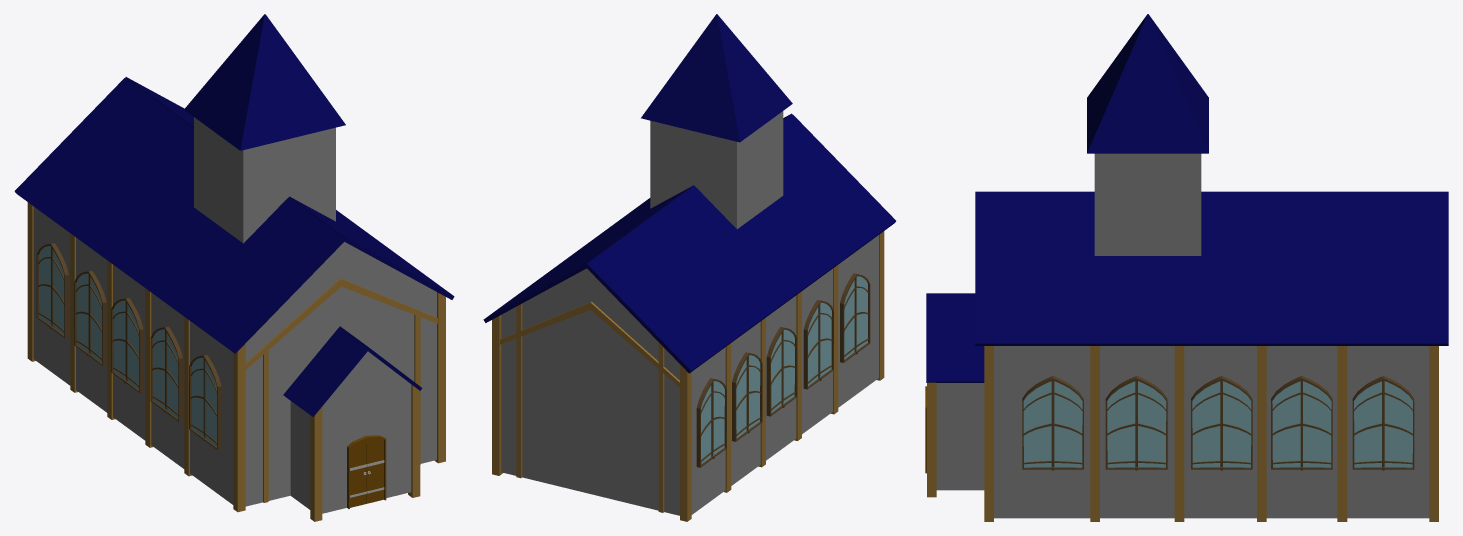
Rendered from Church.fbx.
The picture shows the model from 3 angles, left to right: view 1: azimuth 30°, elevation 25°; view 2: azimuth 150°, elevation 25°; view 3: azimuth 270°, elevation 25°; orthographic projection. The views are drawn at different scales.
Parts seen in each view (by area): view 1: Church1:Church1:pCube42; view 2: Church1:Church1:pCube42; view 3: Church1:Church1:pCube42.
Part boxes in pixels (box(x1,y1,x2,y2)): Church1:Church1:pCube42: box(14, 14, 454, 521); Church1:Church1:pCube42: box(483, 14, 895, 521); Church1:Church1:pCube42: box(925, 14, 1448, 521).
Size of the model in its own units: 4.49 by 8.13 by 8.48.
